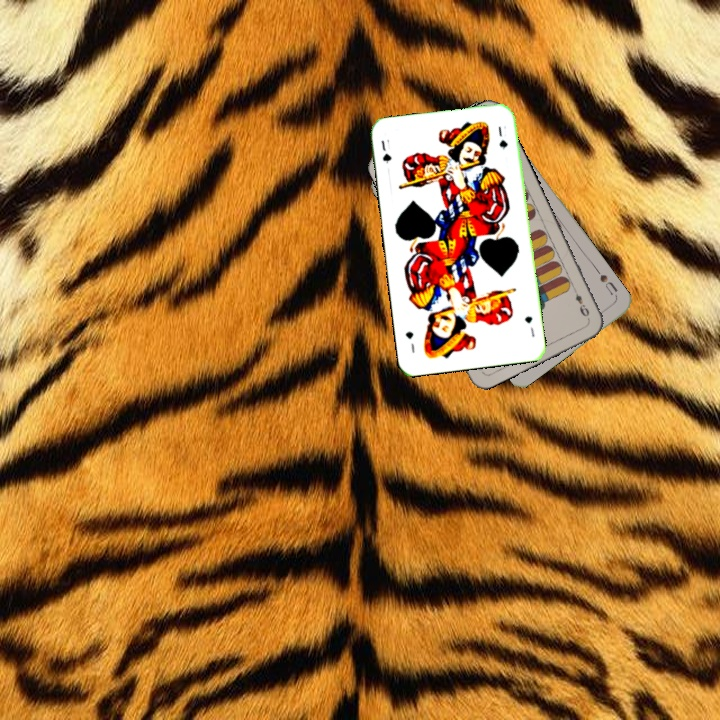E9: (569, 284, 592, 320)
GU: (377, 135, 394, 166), (520, 312, 537, 339)
SU: (595, 270, 620, 298)
